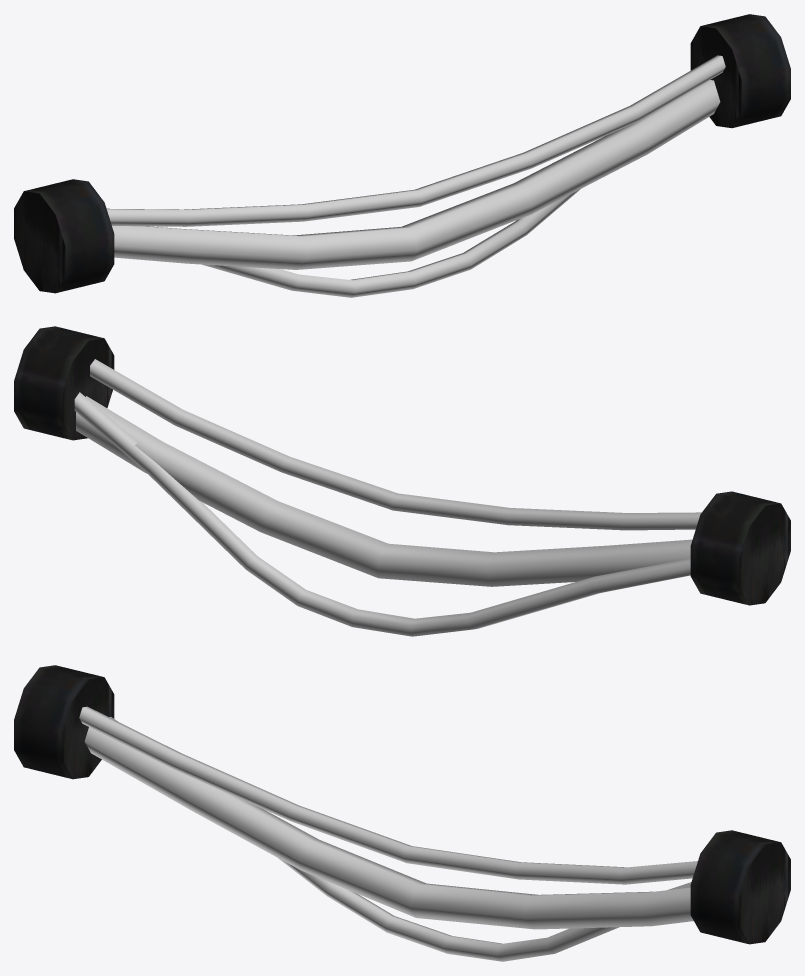
File: cable_small.DAE
3 views of the same model, one above another, from view 1: azimuth 30°, elevation 25°; view 2: azimuth 150°, elevation 25°; view 3: azimuth 330°, elevation 25° (orthographic).
Parts seen in each view (by area): view 1: cable_small, cable_ring_small; view 2: cable_small, cable_ring_small; view 3: cable_small, cable_ring_small.
Boxes of the visible parts, box(x1,y1,x2,y2) form: cable_small: box(106, 55, 725, 297); cable_ring_small: box(14, 14, 790, 293); cable_small: box(74, 359, 701, 636); cable_ring_small: box(14, 326, 790, 605); cable_small: box(79, 706, 697, 961); cable_ring_small: box(14, 665, 790, 944).
Size of the model in its own units: 1.34 by 0.1637 by 0.3589.
